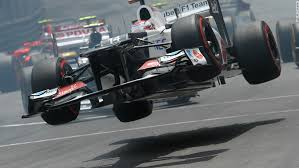FormulaOneCar: (27, 1, 288, 127)
